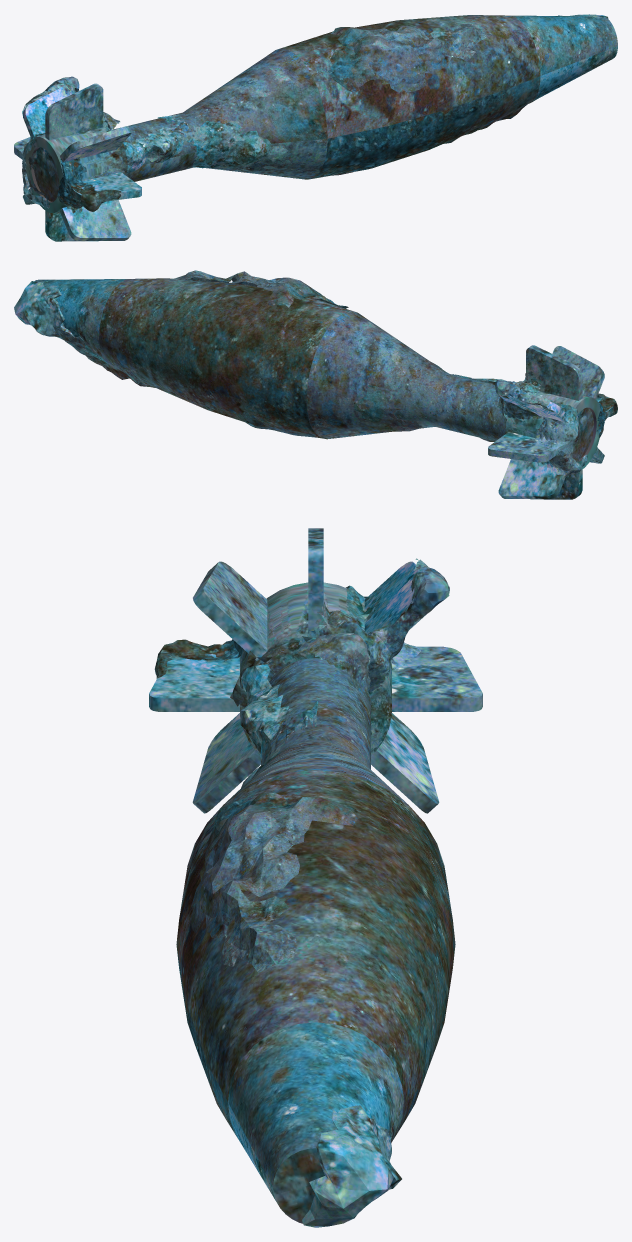
File: uxo_a.dae
3 views of the same model, one above another, from view 1: azimuth 30°, elevation 25°; view 2: azimuth 150°, elevation 25°; view 3: azimuth 270°, elevation 25° (orthographic). The views are drawn at different scales.
Visible parts, largest first — view 1: Munition-A; view 2: Munition-A; view 3: Munition-A.
Part boxes in pixels (left/top/right/bottom): Munition-A: left=14, top=14, right=617, bottom=241; Munition-A: left=14, top=270, right=617, bottom=499; Munition-A: left=149, top=528, right=482, bottom=1227.
Size of the model in its own units: 1.41 by 0.3587 by 0.3587.
Materials: 1 (1 with a texture image).
